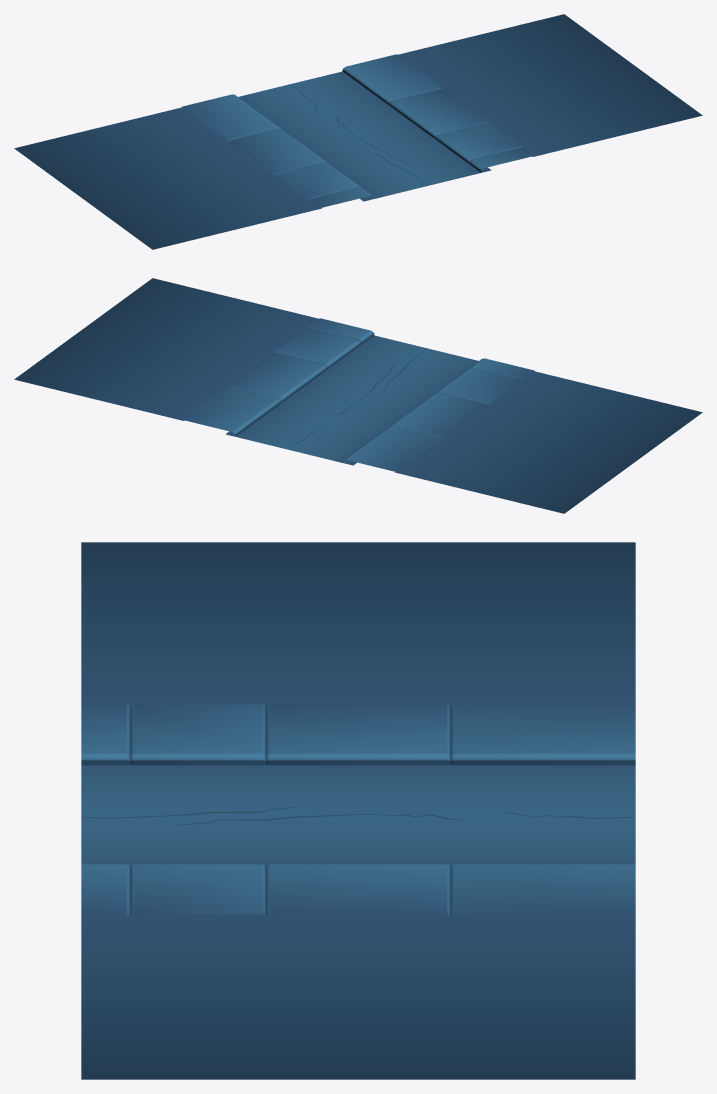
Rendered from Road01Night.glb.
3 renders of one model, top to bottom at view 1: azimuth 30°, elevation 25°; view 2: azimuth 150°, elevation 25°; view 3: azimuth 270°, elevation 25°, orthographic. The views are drawn at different scales.
Parts seen in each view (by area): view 1: Road01Night; view 2: Road01Night; view 3: Road01Night.
Part boxes in pixels (x1,y1,x2,y2): Road01Night: [14, 14, 702, 249]; Road01Night: [14, 278, 702, 513]; Road01Night: [81, 542, 635, 1079].
Bounding box in the file's own units: 20.62 × 0.1458 × 9.
